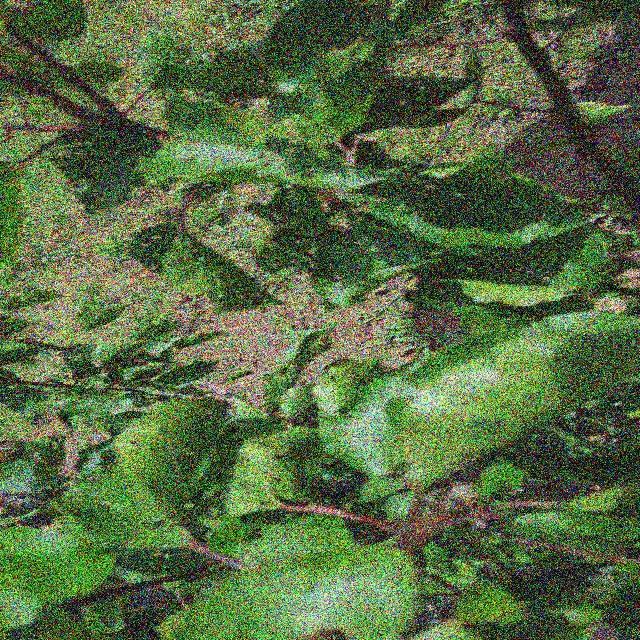shot_hole: (140, 14, 238, 165), (12, 42, 94, 216)
